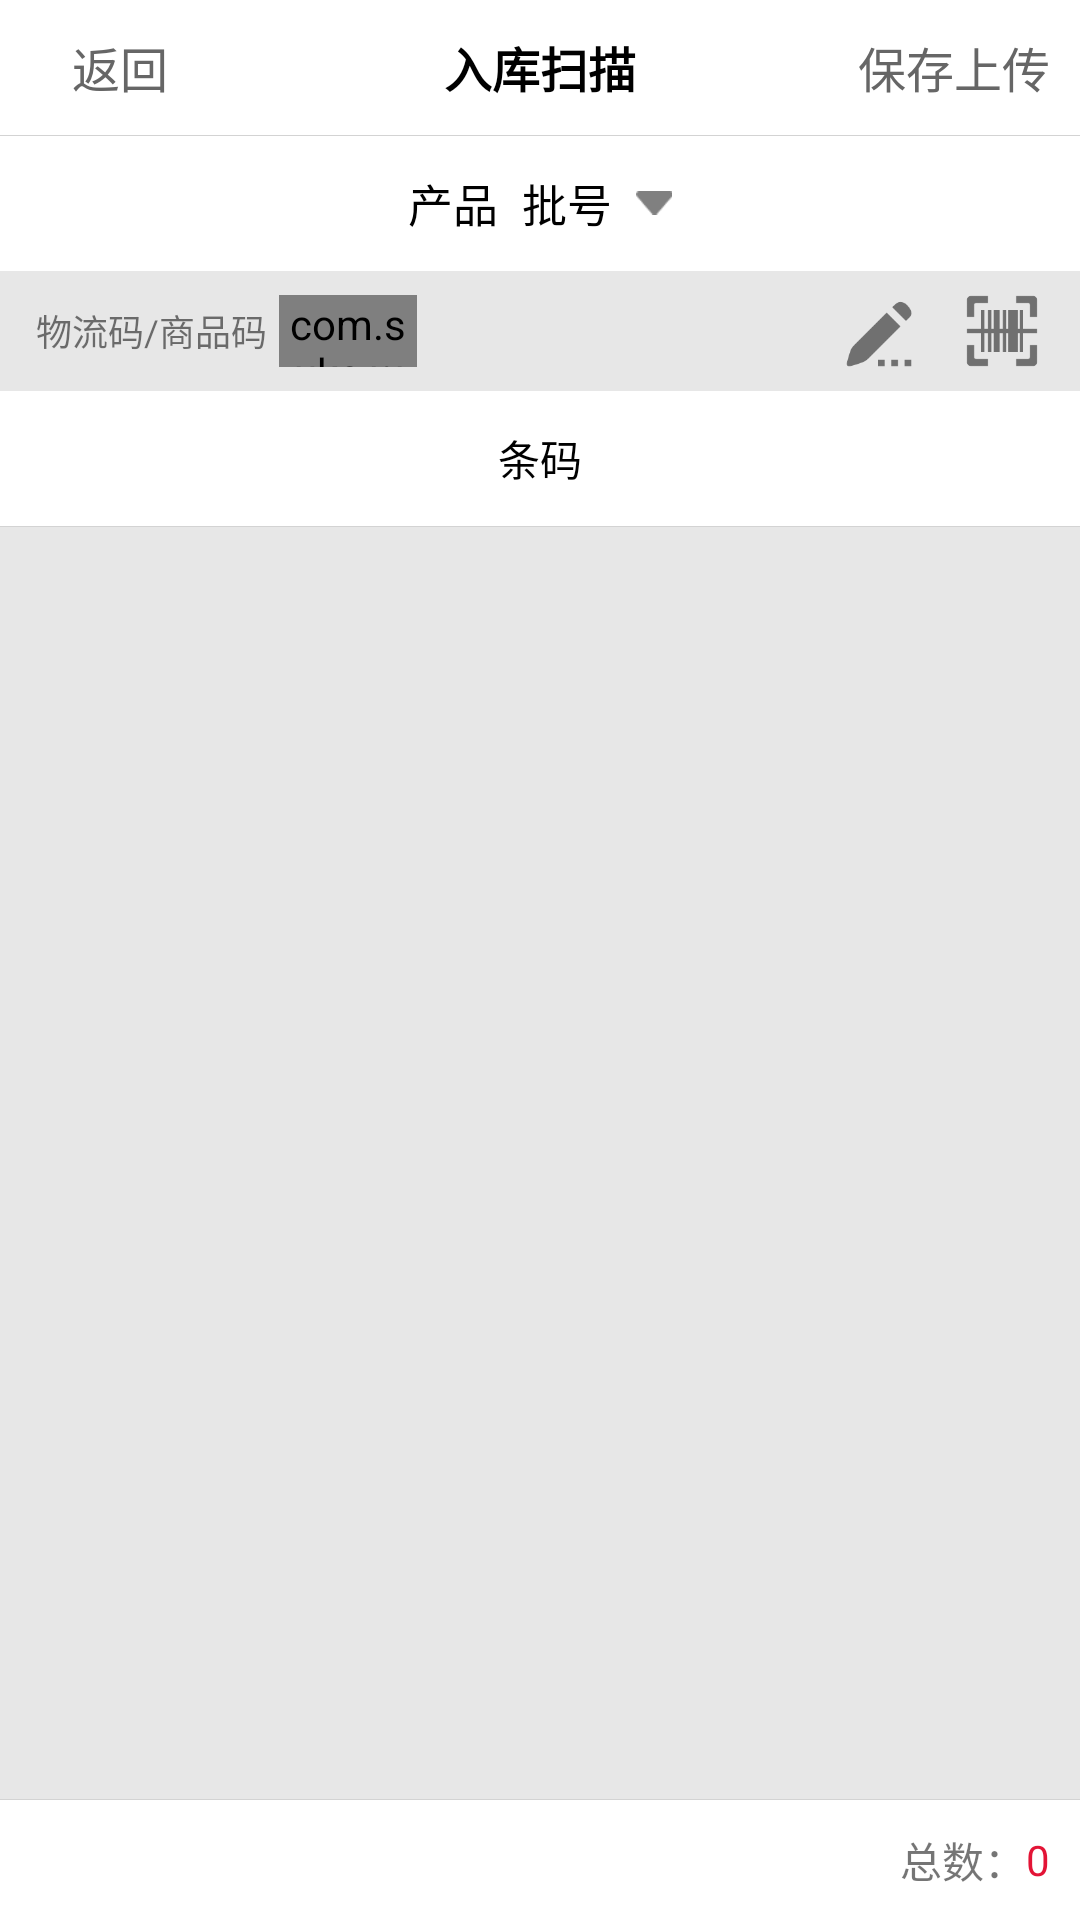

Icons on this 1080px x 1920px Android screen, each with its box as box=[x1, y1, x2, y2]:
manually enter: box=[847, 302, 912, 367]
pull down: box=[636, 191, 672, 215]
scan code: box=[967, 296, 1037, 366]
